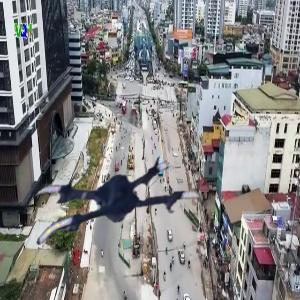drone: (33, 134, 199, 300)
